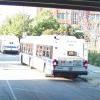Bus: (17, 32, 90, 81)
